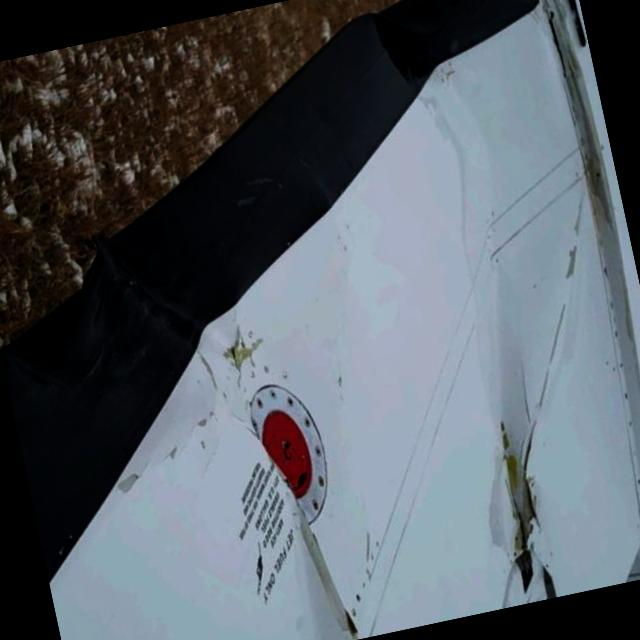crack: (478, 412, 560, 605), (218, 333, 246, 369)
